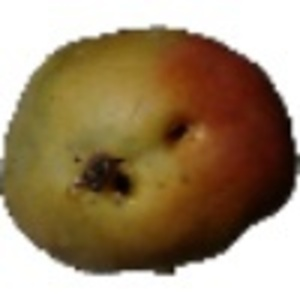mamão: (2, 14, 297, 283)
